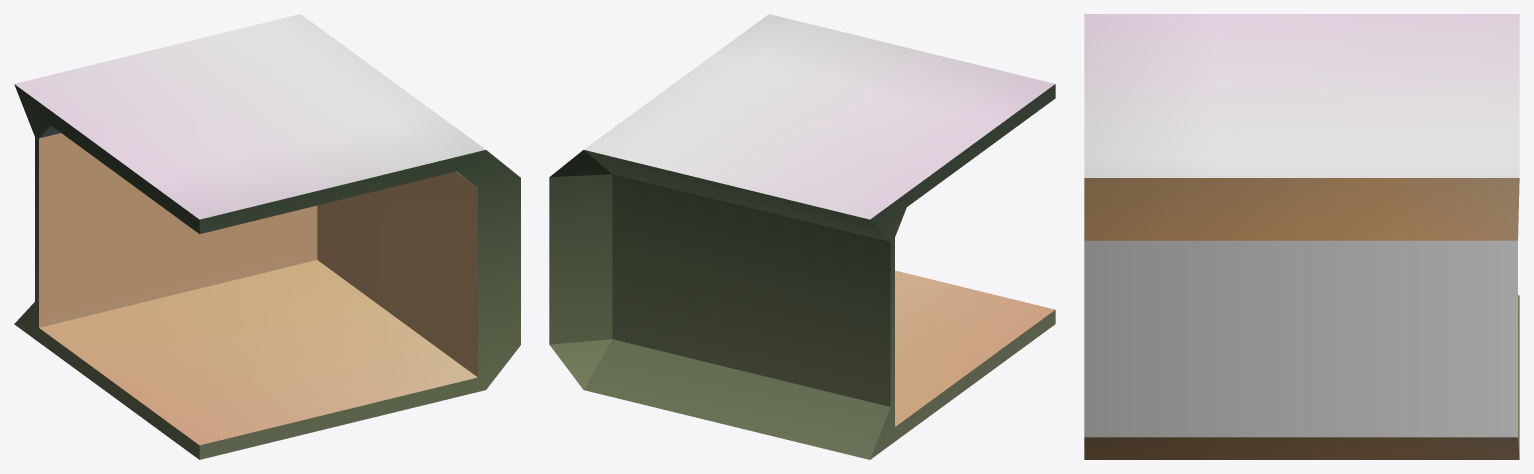
Rendered from R_OutWall_Corner_L.fbx.
3 views of the same model, side by side, from view 1: azimuth 30°, elevation 25°; view 2: azimuth 150°, elevation 25°; view 3: azimuth 270°, elevation 25° (orthographic). The views are drawn at different scales.
Parts seen in each view (by area): view 1: R_OutWall_Corner_L; view 2: R_OutWall_Corner_L; view 3: R_OutWall_Corner_L.
Boxes of the visible parts, x1=… form: R_OutWall_Corner_L: x1=14, y1=14, x2=520, y2=459; R_OutWall_Corner_L: x1=549, y1=14, x2=1055, y2=459; R_OutWall_Corner_L: x1=1084, y1=14, x2=1519, y2=459.
Size of the model in its own units: 4.62 by 4.62 by 3.3.
